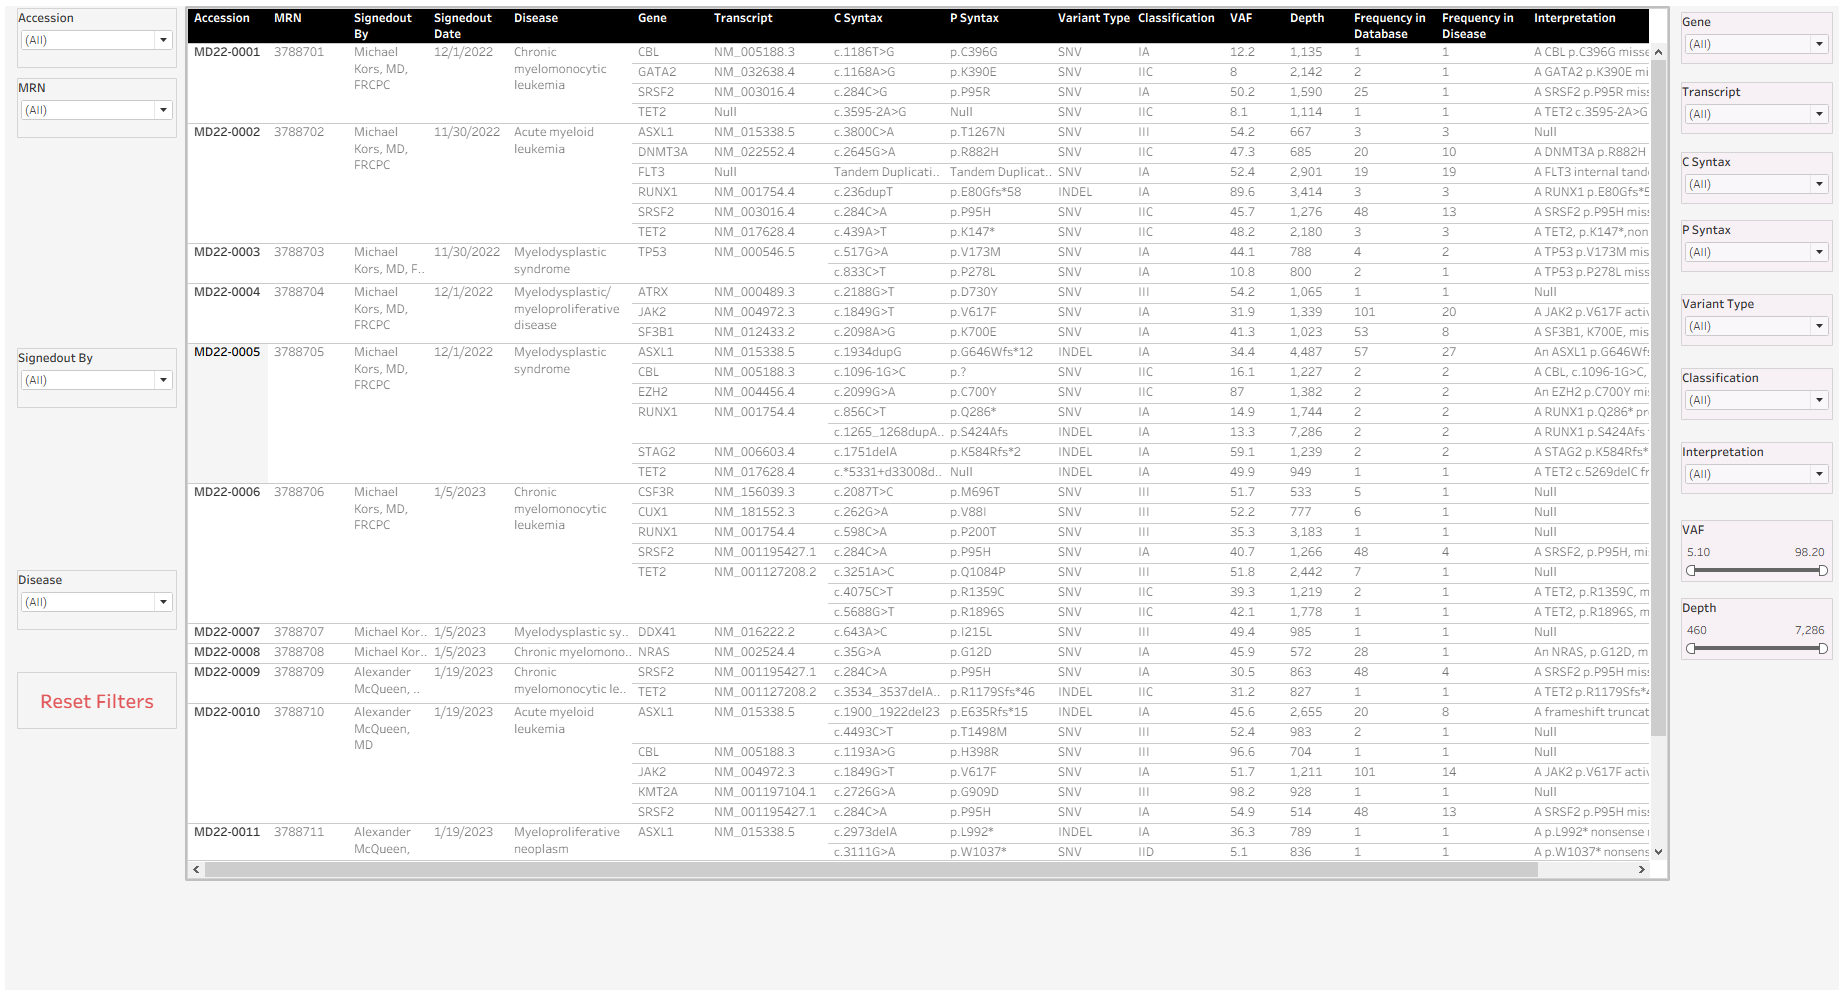

What the dashboard file says about the page in this screenshot:
{"tool":"tableau","page":{"name":"signedout_variants_db","canvas":[1850,1000],"ordinal":0},"visuals":[{"type":"filter","title":"signedout_variants","param":"[federated.1pufc741crde7z196caiq1pk1myt].[none:Accession:nk]","box":[20,10,160,60]},{"type":"worksheet","title":"signedout_variants","mark":"Text","rows":["Accession","MRN","SignedoutBy","SignedoutDate","Disease","geneSymbol","transcript","cSyntax","pSyntax","Variant_Type","Classification","VAF"],"box":[190,10,1481,871]},{"type":"filter","title":"signedout_variants","param":"[federated.1pufc741crde7z196caiq1pk1myt].[none:geneSymbol:nk]","box":[1680,10,160,60]},{"type":"filter","title":"signedout_variants","param":"[federated.1pufc741crde7z196caiq1pk1myt].[none:MRN:nk]","box":[20,80,160,60]},{"type":"filter","title":"signedout_variants","param":"[federated.1pufc741crde7z196caiq1pk1myt].[none:transcript:nk]","box":[1680,80,160,60]},{"type":"filter","title":"signedout_variants","param":"[federated.1pufc741crde7z196caiq1pk1myt].[none:cSyntax:nk]","box":[1680,150,160,60]},{"type":"filter","title":"signedout_variants","param":"[federated.1pufc741crde7z196caiq1pk1myt].[none:pSyntax:nk]","box":[1680,218,160,60]},{"type":"filter","title":"signedout_variants","param":"[federated.1pufc741crde7z196caiq1pk1myt].[none:Variant_Type:nk]","box":[1680,292,160,60]},{"type":"filter","title":"signedout_variants","param":"[federated.1pufc741crde7z196caiq1pk1myt].[none:SignedoutBy:nk]","box":[20,350,160,60]},{"type":"filter","title":"signedout_variants","param":"[federated.1pufc741crde7z196caiq1pk1myt].[none:Classification:nk]","box":[1680,366,160,60]},{"type":"filter","title":"signedout_variants","param":"[federated.1pufc741crde7z196caiq1pk1myt].[none:Interpretation:nk]","box":[1680,440,160,60]},{"type":"filter","title":"signedout_variants","param":"[federated.1pufc741crde7z196caiq1pk1myt].[attr:VAF:qk]","box":[1680,518,160,70]},{"type":"filter","title":"signedout_variants","param":"[federated.1pufc741crde7z196caiq1pk1myt].[none:Disease:nk]","box":[20,572,160,60]},{"type":"filter","title":"signedout_variants","param":"[federated.1pufc741crde7z196caiq1pk1myt].[attr:Depth:qk]","box":[1680,596,160,70]},{"type":"worksheet","title":"Reset","mark":"Automatic","box":[20,674,160,57]}]}

Visuals, with their boxes in screenshot pixels (x1, y1, x2, y2), scaled from the page's 1850x1000 canvas onto the 1845x996 screenshot:
"signedout_variants" filter: {"x1": 20, "y1": 10, "x2": 180, "y2": 70}
"signedout_variants" worksheet (Text marks): {"x1": 189, "y1": 10, "x2": 1666, "y2": 877}
"signedout_variants" filter: {"x1": 1675, "y1": 10, "x2": 1835, "y2": 70}
"signedout_variants" filter: {"x1": 20, "y1": 80, "x2": 180, "y2": 139}
"signedout_variants" filter: {"x1": 1675, "y1": 80, "x2": 1835, "y2": 139}
"signedout_variants" filter: {"x1": 1675, "y1": 149, "x2": 1835, "y2": 209}
"signedout_variants" filter: {"x1": 1675, "y1": 217, "x2": 1835, "y2": 277}
"signedout_variants" filter: {"x1": 1675, "y1": 291, "x2": 1835, "y2": 351}
"signedout_variants" filter: {"x1": 20, "y1": 349, "x2": 180, "y2": 408}
"signedout_variants" filter: {"x1": 1675, "y1": 365, "x2": 1835, "y2": 424}
"signedout_variants" filter: {"x1": 1675, "y1": 438, "x2": 1835, "y2": 498}
"signedout_variants" filter: {"x1": 1675, "y1": 516, "x2": 1835, "y2": 586}
"signedout_variants" filter: {"x1": 20, "y1": 570, "x2": 180, "y2": 629}
"signedout_variants" filter: {"x1": 1675, "y1": 594, "x2": 1835, "y2": 663}
"Reset" worksheet: {"x1": 20, "y1": 671, "x2": 180, "y2": 728}
